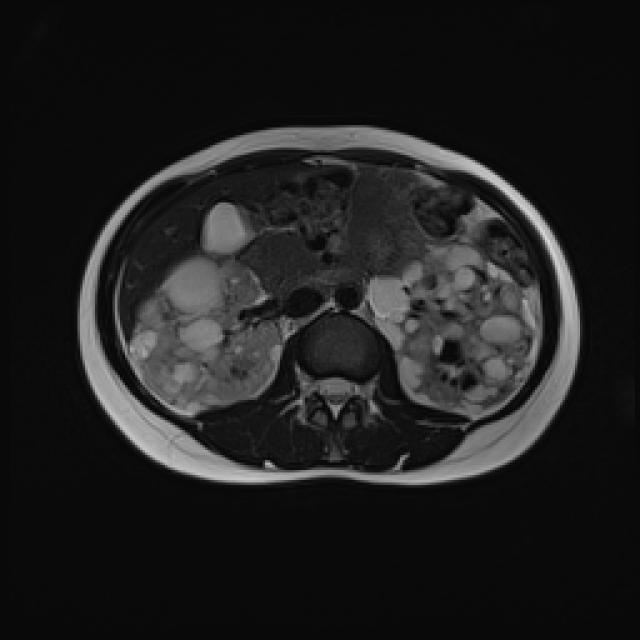sag: (129, 256, 285, 413)
sol: (365, 241, 538, 419)
